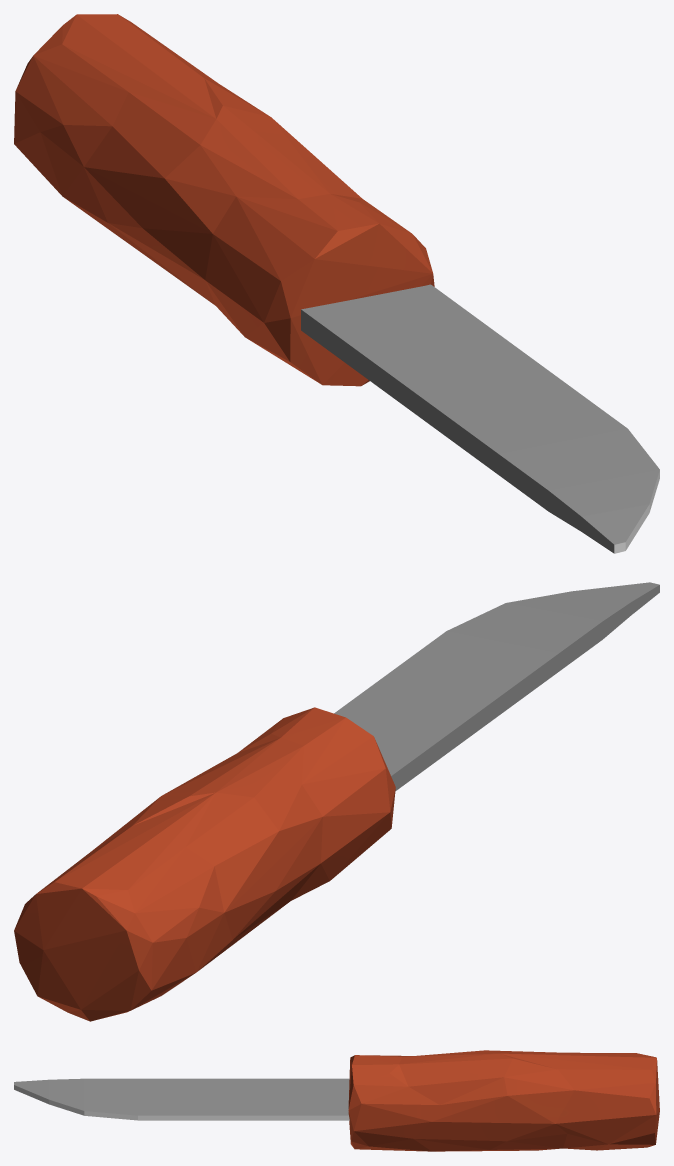
File: Metal knife.fbx
3 renders of one model, top to bottom at view 1: azimuth 30°, elevation 25°; view 2: azimuth 150°, elevation 25°; view 3: azimuth 270°, elevation 25°, orthographic. The views are drawn at different scales.
Parts seen in each view (by area): view 1: Metal knife; view 2: Metal knife; view 3: Metal knife.
Part boxes in pixels (<box>): Metal knife: <box>14,14,659,553</box>; Metal knife: <box>14,582,659,1021</box>; Metal knife: <box>14,1050,659,1151</box>.
Bounding box in the file's own units: 0.0414 × 0.0408 × 0.2609.
